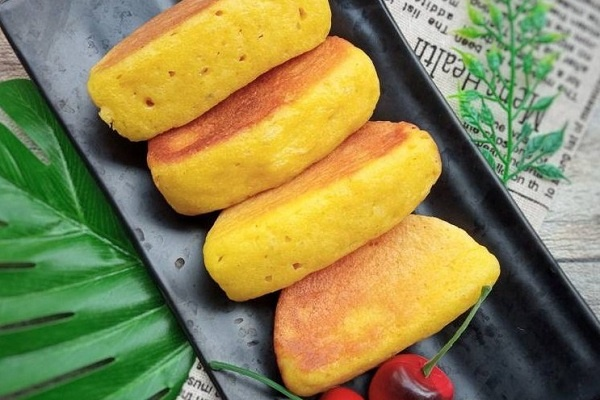pukis: (265, 225, 494, 389)
